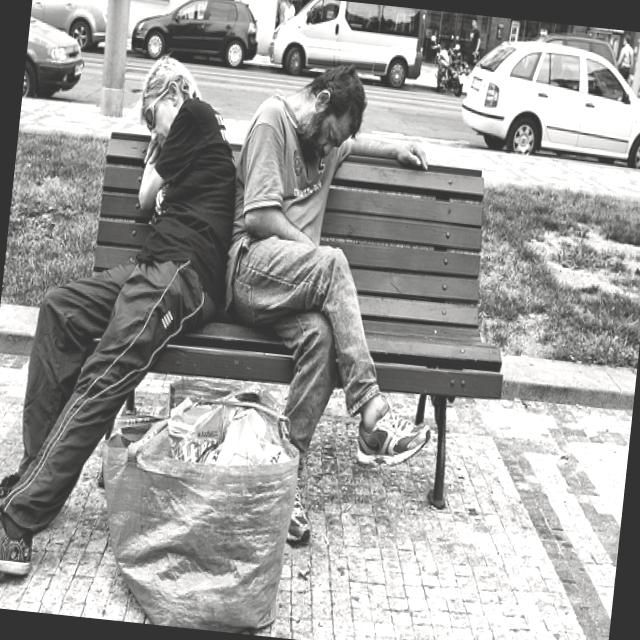Vehicle: (457, 32, 640, 168), (266, 0, 429, 94), (131, 0, 262, 70), (21, 0, 91, 103), (27, 0, 109, 48), (530, 30, 620, 66), (425, 34, 468, 98), (442, 44, 472, 86)
